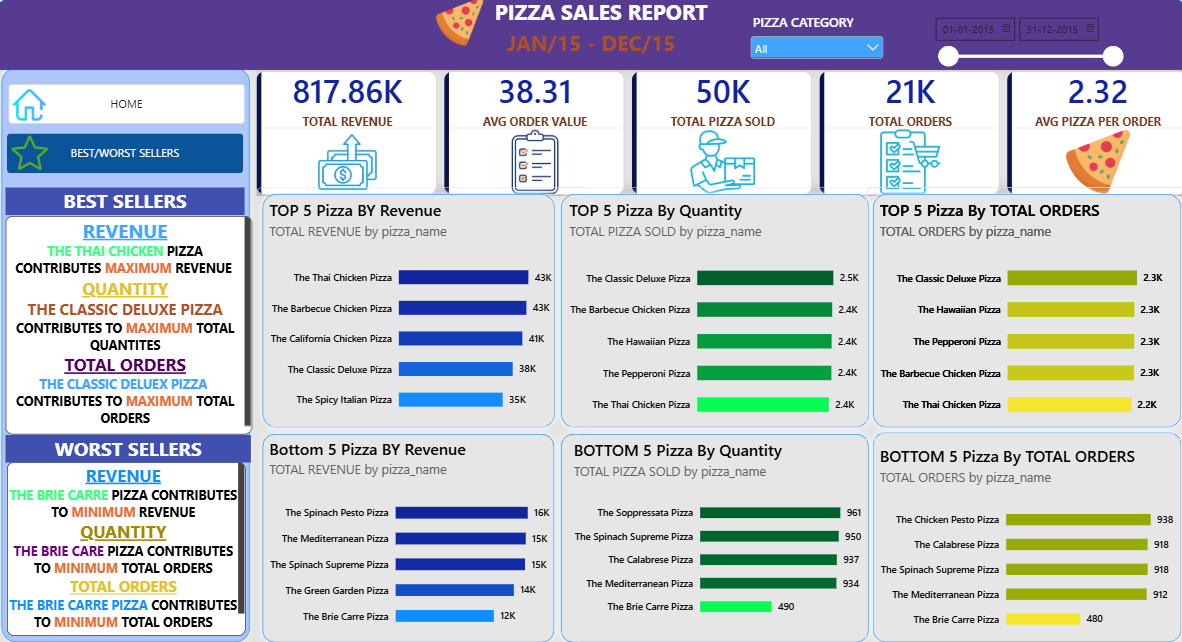

Layout of this report page (visuals, bound fields, positions):
{"tool":"powerbi","page":{"name":"BEST/WORST SELLERS","canvas":[1500,820],"ordinal":1},"visuals":[{"type":"shape","box":[0,80.8,328.8,738.5],"z":0},{"type":"cardVisual","fields":{"Data":["pizza_sales.TOTAL REVENUE","pizza_sales.AVG ORDER VALUE","pizza_sales.TOTAL PIZZA SOLD","pizza_sales.TOTAL ORDERS","pizza_sales.AVG PIZZA PER ORDER"]},"box":[328.6,92.1,1172.5,157.5],"z":1000},{"type":"shape","box":[0,0,1500,92.2],"z":2000},{"type":"textbox","box":[464.6,0,604.2,50],"z":3000},{"type":"textbox","box":[0,39.6,1500,41.7],"z":4000},{"type":"image","box":[510.4,0,145.8,62.5],"z":5000},{"type":"shape","box":[328,240,384,310],"z":6000},{"type":"shape","box":[704,240,404,310],"z":7000},{"type":"shape","box":[1096,540,404,280],"z":8000},{"type":"shape","box":[703.9,540.7,403.3,278.6],"z":9000},{"type":"shape","box":[328.1,540.7,383.1,278.6],"z":10000},{"type":"textbox","box":[12.8,240.1,300.6,34.8],"z":11000},{"type":"textbox","box":[15.6,584.4,300,218.9],"z":12000},{"type":"textbox","box":[12.8,274.9,309.8,274.9],"z":13000},{"type":"textbox","box":[13.3,550,308.9,34.4],"z":14000},{"type":"slicer","fields":{"Values":["pizza_sales.pizza_category"]},"box":[945.6,21.1,176.7,71.1],"z":15000},{"type":"slicer","fields":{"Values":["pizza_sales.order_date"]},"box":[1175.6,21.1,246.7,71.1],"z":16000},{"type":"shape","box":[1096,240,404,310],"z":17000},{"type":"barChart","title":"TOP 5 Pizza BY Revenue","fields":{"Category":["pizza_sales.pizza_name"],"Y":["pizza_sales.TOTAL REVENUE"]},"box":[328,240,422,310],"z":18000},{"type":"barChart","title":"Bottom 5 Pizza BY Revenue","fields":{"Category":["pizza_sales.pizza_name"],"Y":["pizza_sales.TOTAL REVENUE"]},"box":[328,540,406,278],"z":19000},{"type":"barChart","title":"TOP 5 Pizza By Quantity","fields":{"Category":["pizza_sales.pizza_name"],"Y":["pizza_sales.TOTAL PIZZA SOLD"]},"box":[706,240,404.3,317.1],"z":20000},{"type":"barChart","title":"BOTTOM 5 Pizza By Quantity","fields":{"Category":["pizza_sales.pizza_name"],"Y":["pizza_sales.TOTAL PIZZA SOLD"]},"box":[711.2,541.2,396.2,262.5],"z":21000},{"type":"barChart","title":"TOP 5 Pizza By TOTAL ORDERS","fields":{"Category":["pizza_sales.pizza_name"],"Y":["pizza_sales.TOTAL ORDERS"]},"box":[1096.1,239.6,404.3,317.1],"z":22000},{"type":"barChart","title":"TOP 5 Pizza By TOTAL ORDERS","fields":{"Category":["pizza_sales.pizza_name"],"Y":["pizza_sales.TOTAL ORDERS"]},"box":[1095.7,239.6,404.3,317.1],"z":23000},{"type":"barChart","title":"BOTTOM 5 Pizza By TOTAL ORDERS","fields":{"Category":["pizza_sales.pizza_name"],"Y":["pizza_sales.TOTAL ORDERS"]},"box":[1096.1,549,403.7,271.7],"z":24000},{"type":"pageNavigator","box":[15,171.2,297.5,50],"z":25000},{"type":"pageNavigator","box":[16.2,110,297.5,50],"z":26000},{"type":"image","box":[12.9,114.3,60,41.4],"z":27000},{"type":"image","box":[20,167.1,45.7,55.7],"z":27001}]}

Visuals, with their boxes in screenshot pixels (x1, y1, x2, y2), scaled from the page's 1500x820 canvas onto the 1182x642 screenshot:
shape: BBox(0, 63, 259, 641)
cardVisual - pizza_sales.TOTAL REVENUE x pizza_sales.AVG ORDER VALUE: BBox(259, 72, 1181, 195)
shape: BBox(0, 0, 1181, 72)
textbox: BBox(366, 0, 842, 39)
textbox: BBox(0, 31, 1181, 64)
image: BBox(402, 0, 517, 49)
shape: BBox(258, 188, 561, 431)
shape: BBox(555, 188, 873, 431)
shape: BBox(864, 423, 1181, 641)
shape: BBox(555, 423, 872, 641)
shape: BBox(259, 423, 560, 641)
textbox: BBox(10, 188, 247, 215)
textbox: BBox(12, 458, 249, 629)
textbox: BBox(10, 215, 254, 430)
textbox: BBox(10, 431, 254, 458)
slicer - pizza_sales.pizza_category: BBox(745, 17, 884, 72)
slicer - pizza_sales.order_date: BBox(926, 17, 1121, 72)
shape: BBox(864, 188, 1181, 431)
"TOP 5 Pizza BY Revenue" barChart: BBox(258, 188, 591, 431)
"Bottom 5 Pizza BY Revenue" barChart: BBox(258, 423, 578, 640)
"TOP 5 Pizza By Quantity" barChart: BBox(556, 188, 875, 436)
"BOTTOM 5 Pizza By Quantity" barChart: BBox(560, 424, 873, 629)
"TOP 5 Pizza By TOTAL ORDERS" barChart: BBox(864, 188, 1181, 436)
"TOP 5 Pizza By TOTAL ORDERS" barChart: BBox(863, 188, 1181, 436)
"BOTTOM 5 Pizza By TOTAL ORDERS" barChart: BBox(864, 430, 1181, 641)
pageNavigator: BBox(12, 134, 246, 173)
pageNavigator: BBox(13, 86, 247, 125)
image: BBox(10, 89, 57, 122)
image: BBox(16, 131, 52, 174)
